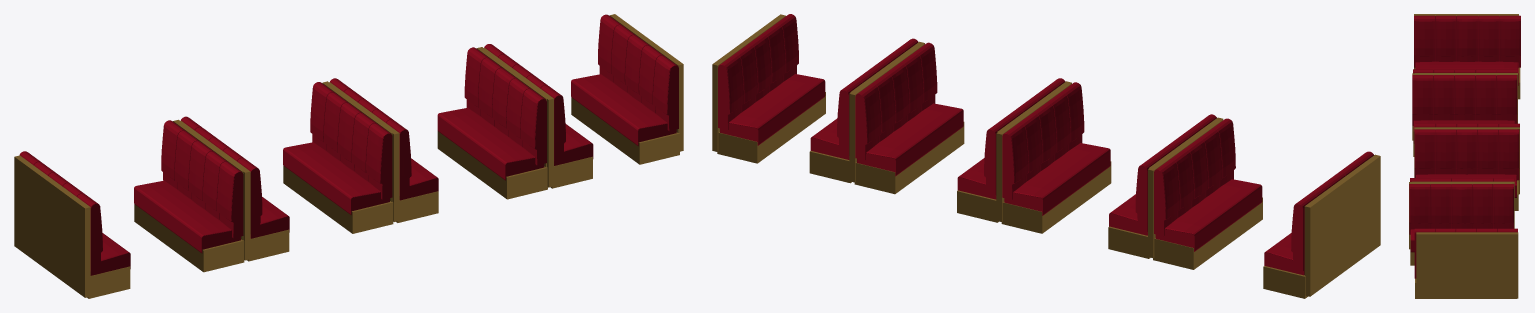
The model's file is sillones.obj.
3 renders of one model, left to right at view 1: azimuth 30°, elevation 25°; view 2: azimuth 150°, elevation 25°; view 3: azimuth 270°, elevation 25°, orthographic. The views are drawn at different scales.
Visible parts, largest first — view 1: gabinetes:pasted__pasted__pasted__pasted__pCube3pasted__pasted__; view 2: gabinetes:pasted__pasted__pasted__pasted__pCube3pasted__pasted__; view 3: gabinetes:pasted__pasted__pasted__pasted__pCube3pasted__pasted__.
Part boxes in pixels (x1,y1,x2,y2): gabinetes:pasted__pasted__pasted__pasted__pCube3pasted__pasted__: (14, 14, 683, 298); gabinetes:pasted__pasted__pasted__pasted__pCube3pasted__pasted__: (712, 14, 1380, 298); gabinetes:pasted__pasted__pasted__pasted__pCube3pasted__pasted__: (1409, 14, 1520, 298).
Bounding box in the file's own units: 14.31 × 2.16 × 3.1.
Materials: 16 (16 with a texture image).
